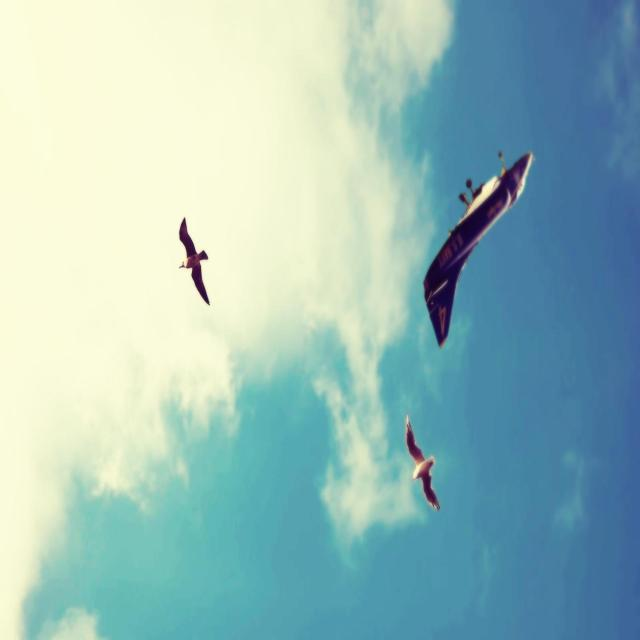airplane: (423, 148, 534, 348)
